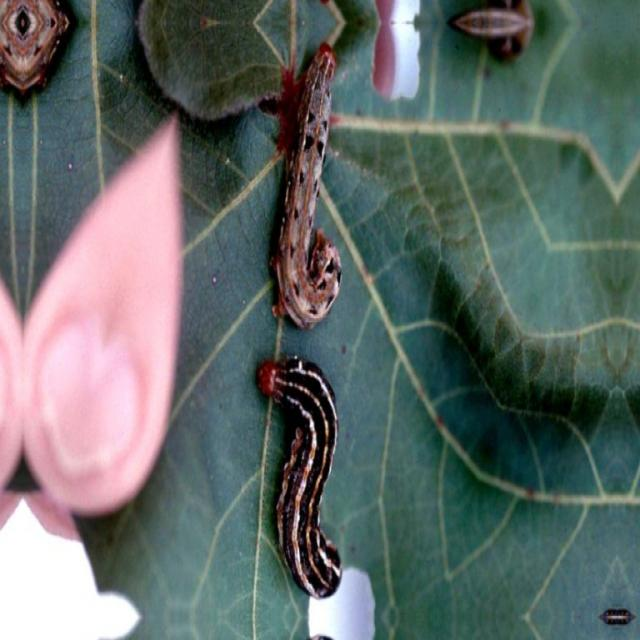Armyworm: (253, 303, 367, 621), (275, 36, 354, 331)
Armyworm_damage: (361, 1, 444, 137)
